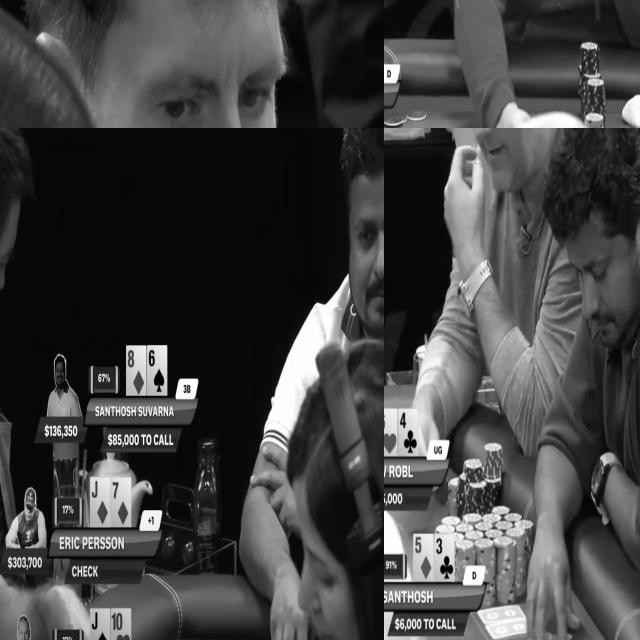10H: (111, 608, 130, 640)
3C: (435, 534, 453, 581)
4C: (399, 410, 417, 456)
5D: (413, 534, 433, 581)
6H: (384, 409, 397, 456)
6S: (147, 345, 166, 395)
7D: (112, 478, 131, 527)
8D: (127, 347, 145, 396)
JD: (90, 477, 110, 527)
JS: (90, 609, 109, 640)
